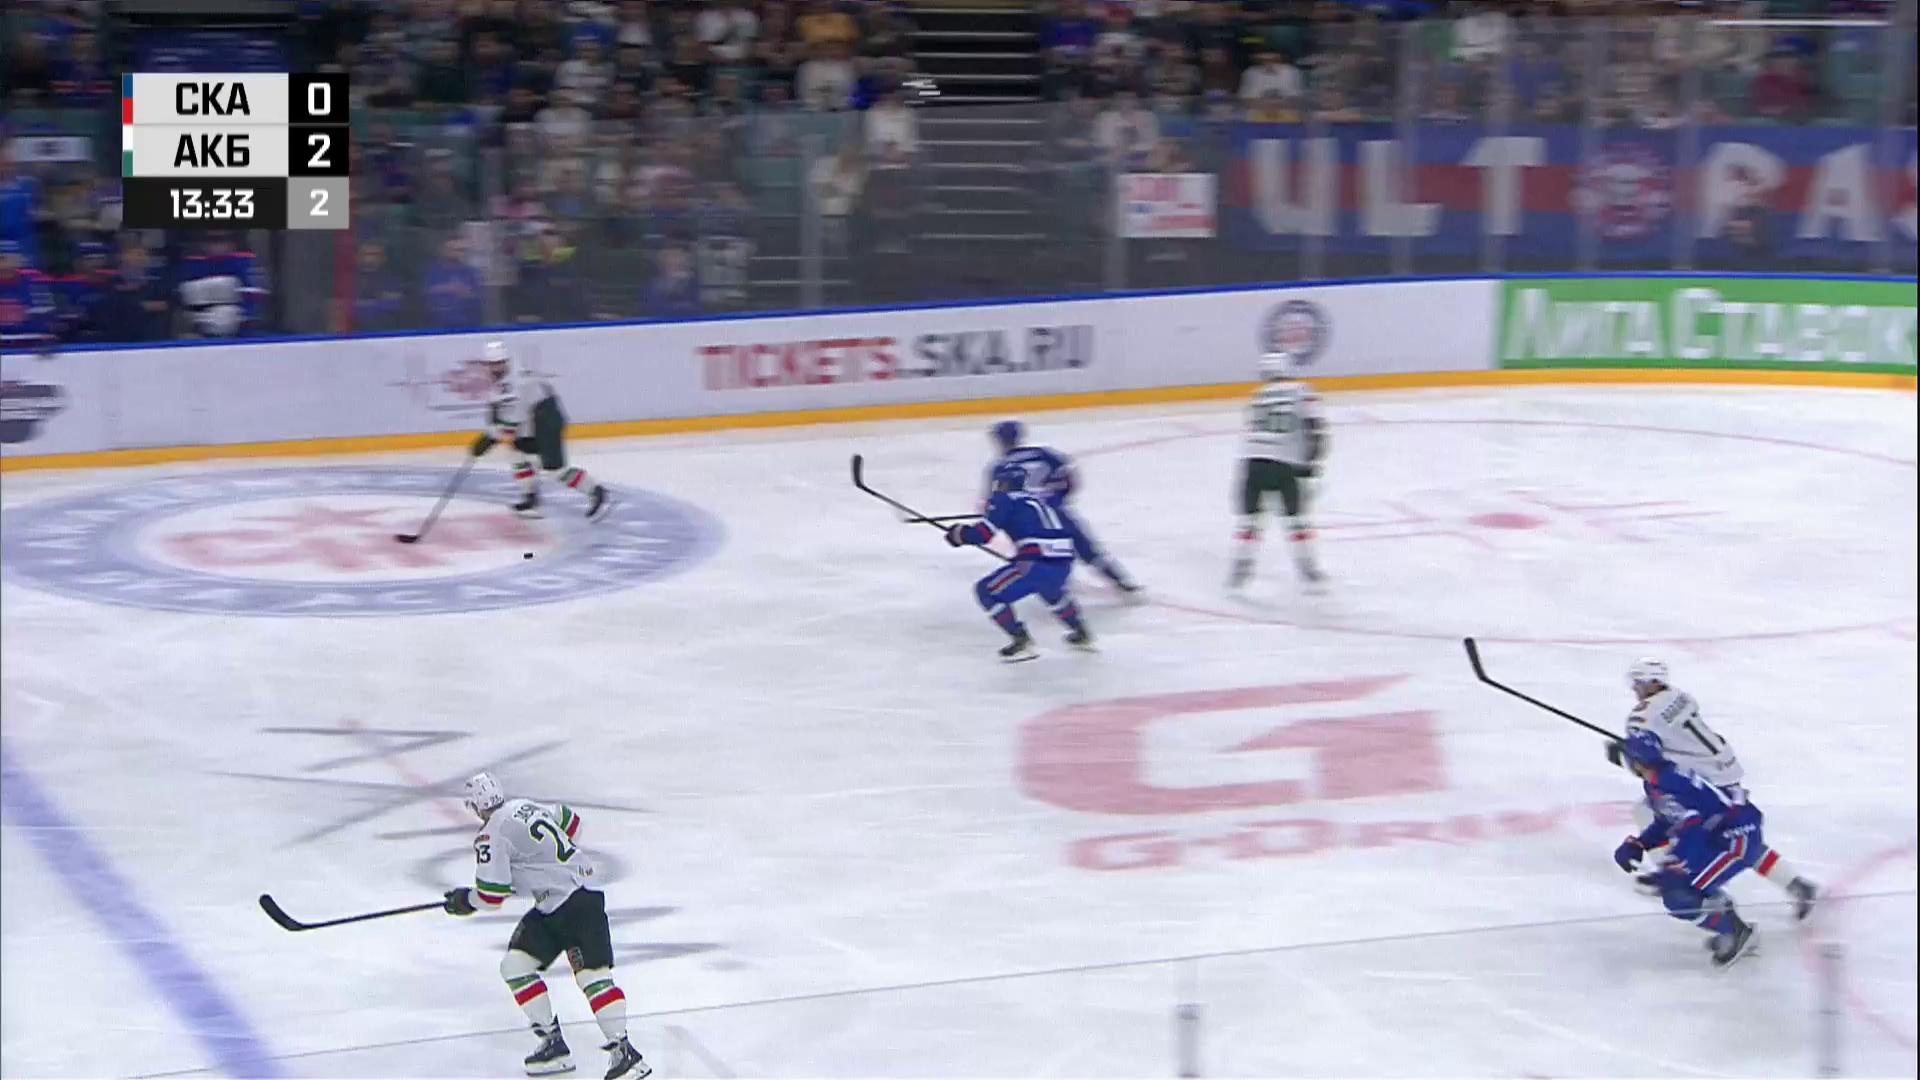ball: (522, 551, 535, 560)
